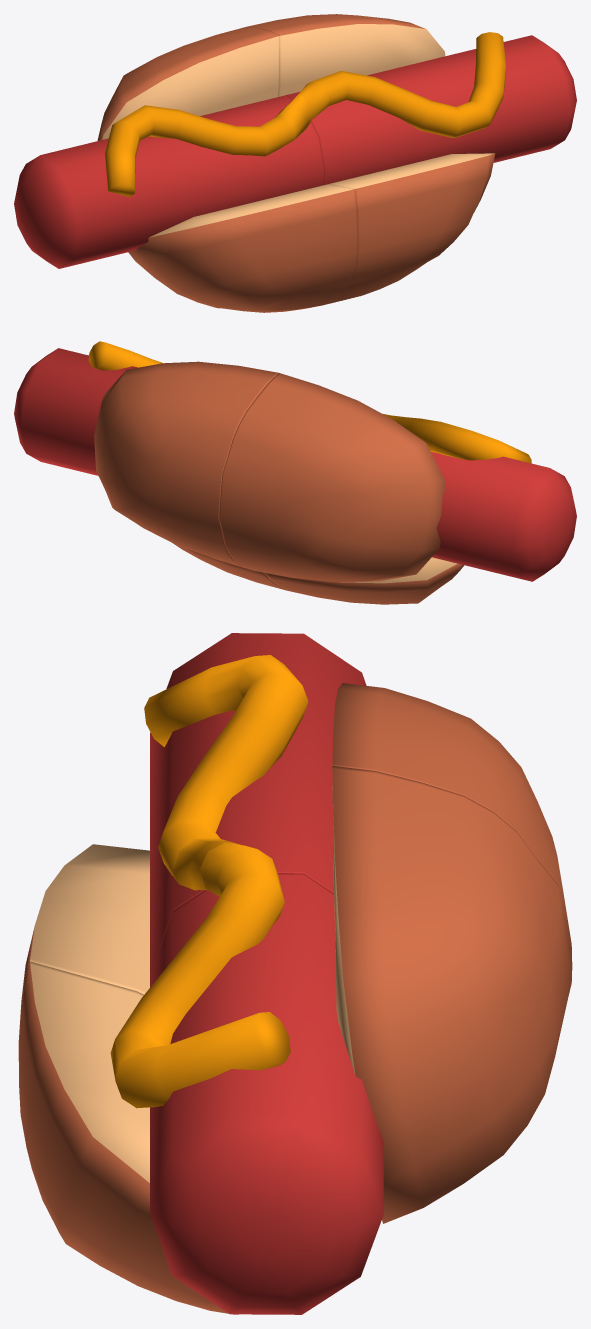
File: SM_HotDog_02a.fbx
3 views of the same model, one above another, from view 1: azimuth 30°, elevation 25°; view 2: azimuth 150°, elevation 25°; view 3: azimuth 270°, elevation 25° (orthographic). The views are drawn at different scales.
Parts seen in each view (by area): view 1: HotDog_02, HotDog_01; view 2: HotDog_02, HotDog_01; view 3: HotDog_01, HotDog_02.
Boxes of the visible parts, x1=… form: HotDog_02: x1=14, y1=27, x2=357, y2=312; HotDog_01: x1=246, y1=14, x2=576, y2=300; HotDog_02: x1=219, y1=373, x2=576, y2=604; HotDog_01: x1=14, y1=341, x2=286, y2=590; HotDog_01: x1=18, y1=766, x2=572, y2=1314; HotDog_02: x1=21, y1=633, x2=572, y2=998.
Bounding box in the file's own units: 82.86 × 34.99 × 37.08.
